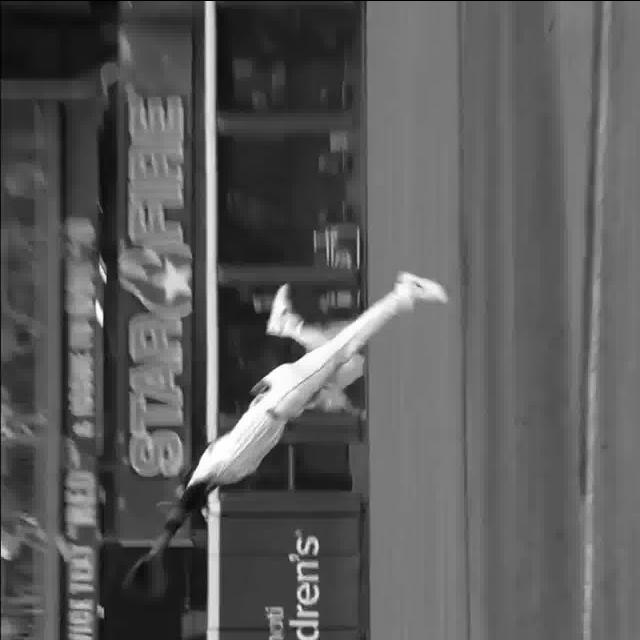baseball_glove: (122, 545, 169, 594)
shoe: (391, 258, 457, 312), (263, 284, 297, 343)
